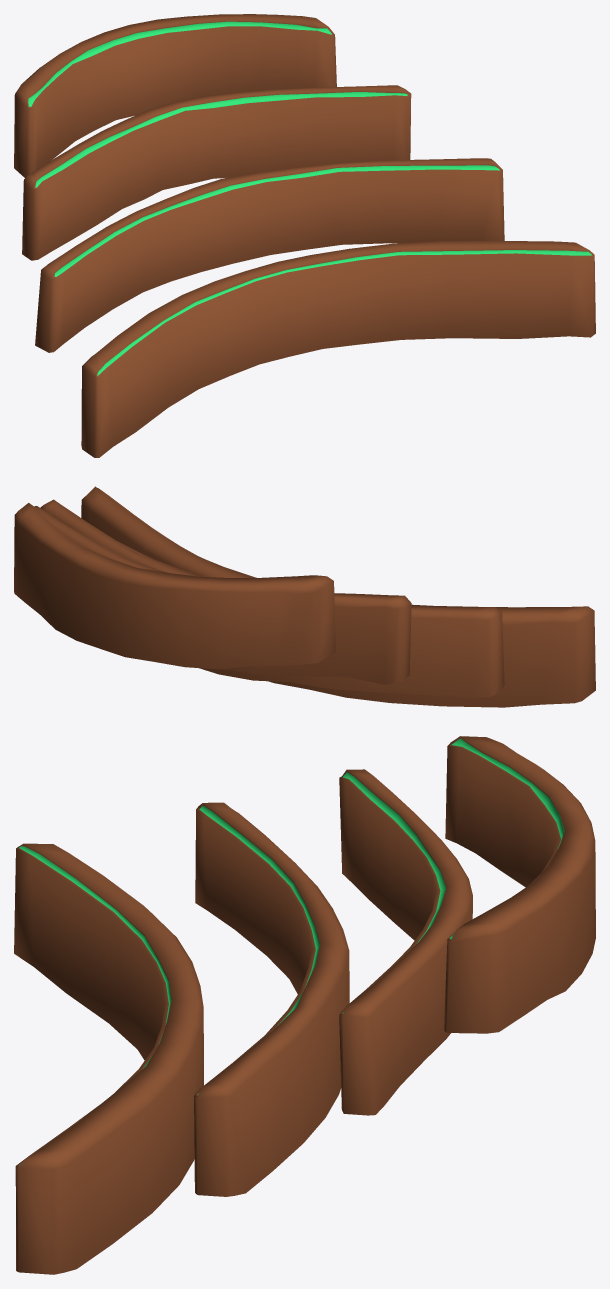
The model's file is seats 1.fbx.
3 views of the same model, one above another, from view 1: azimuth 30°, elevation 25°; view 2: azimuth 150°, elevation 25°; view 3: azimuth 270°, elevation 25° (orthographic). The views are drawn at different scales.
Visible parts, largest first — view 1: seats 1; view 2: seats 1; view 3: seats 1.
Part boxes in pixels (<box>): seats 1: <box>14,14,595,457</box>; seats 1: <box>14,486,595,707</box>; seats 1: <box>14,736,595,1274</box>.
Size of the model in its own units: 822 by 342 by 625.
